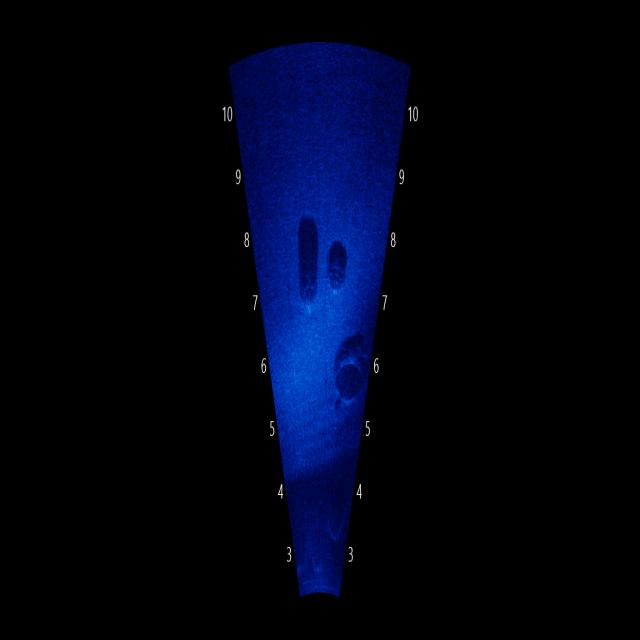circle: (332, 347, 366, 412), (327, 249, 347, 303)
